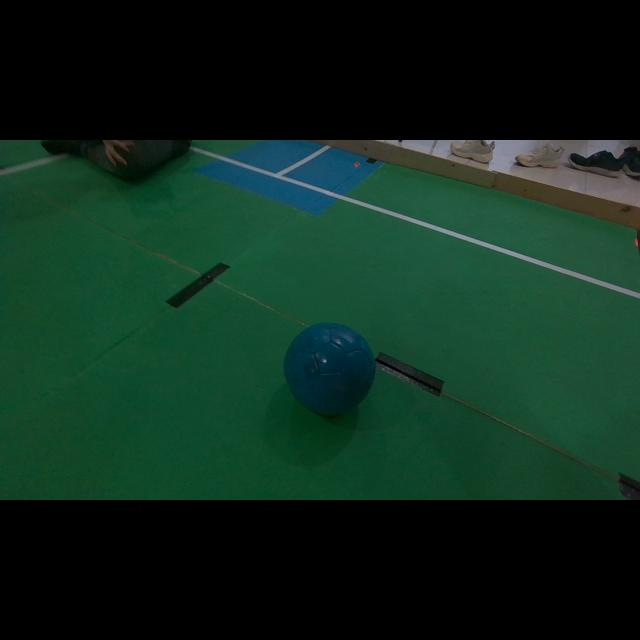B: (284, 322, 375, 415)
